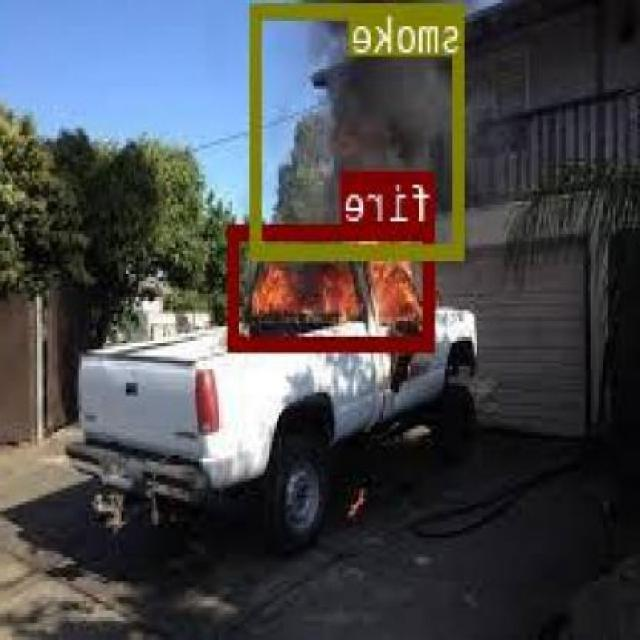Fire: (231, 222, 437, 347)
Smoke: (252, 1, 466, 257)
